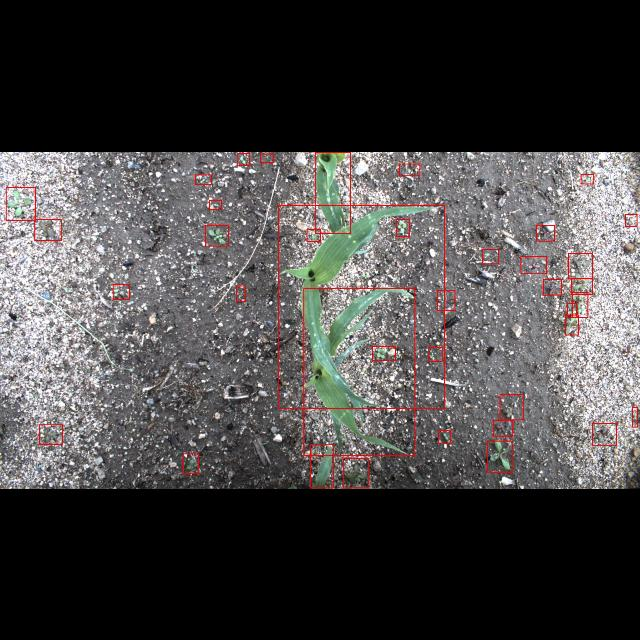crop: (278, 204, 444, 408), (304, 287, 414, 455), (316, 152, 350, 232), (311, 444, 334, 488)
weed: (6, 187, 34, 220), (488, 441, 512, 472), (344, 458, 368, 488), (568, 252, 592, 278), (35, 218, 61, 240), (500, 394, 522, 420), (592, 423, 616, 445), (206, 224, 228, 246), (520, 255, 546, 272), (40, 424, 62, 444), (572, 292, 588, 316), (372, 346, 396, 360), (438, 290, 454, 310), (572, 278, 592, 294), (542, 278, 562, 294), (493, 420, 513, 436), (536, 224, 554, 240), (184, 453, 198, 473), (482, 248, 498, 264), (396, 218, 410, 236), (398, 163, 419, 175), (566, 314, 578, 334), (113, 284, 129, 298), (428, 347, 442, 361), (307, 228, 321, 242), (195, 174, 211, 184), (438, 431, 450, 444), (238, 152, 250, 164), (260, 152, 274, 162), (580, 173, 594, 183), (567, 303, 577, 317), (237, 286, 246, 300), (632, 407, 638, 427), (626, 213, 636, 225), (209, 200, 221, 208)
